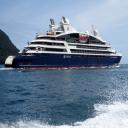cruises: (5, 16, 124, 71)
